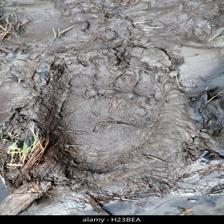bear: (51, 57, 168, 172)
